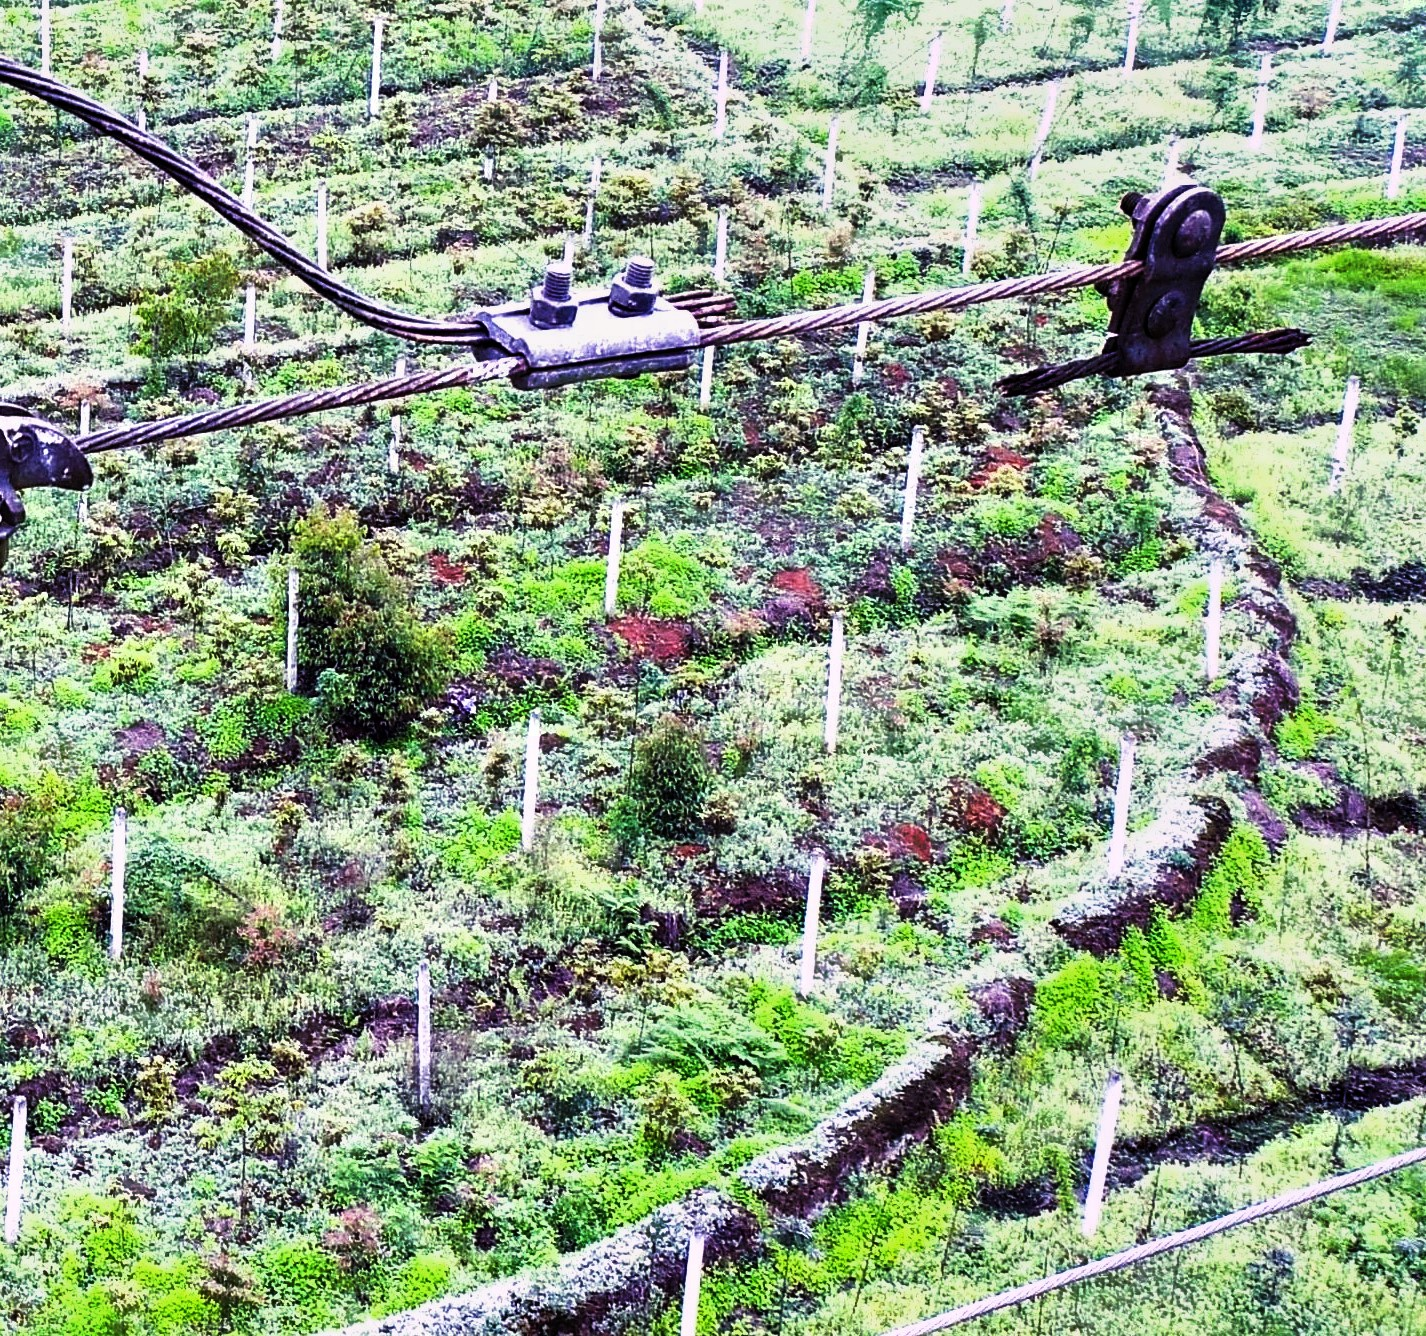Damage of shockproof hammer: (982, 164, 1349, 441)
